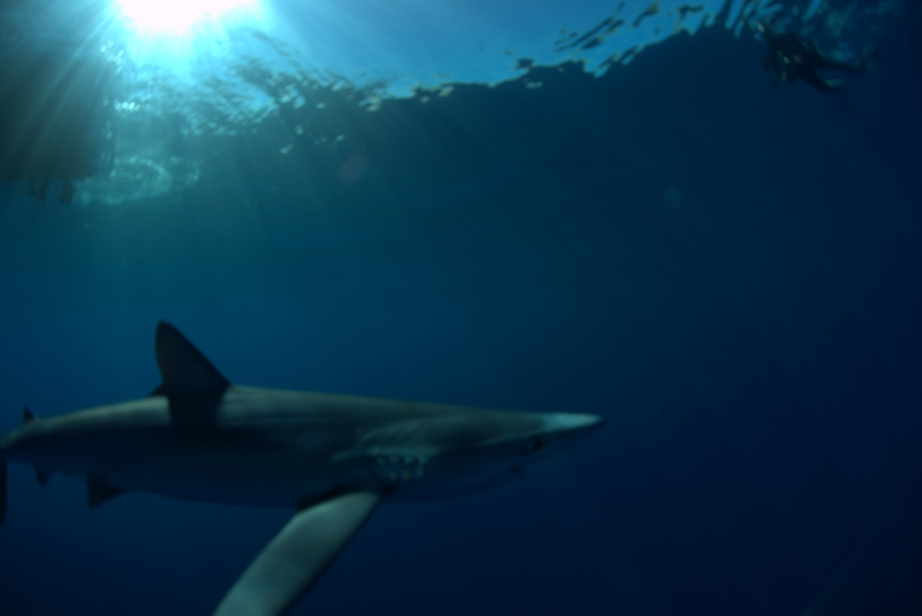Azul: (4, 324, 636, 616)
